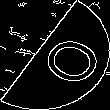O_NW: (15, 23, 95, 87)
